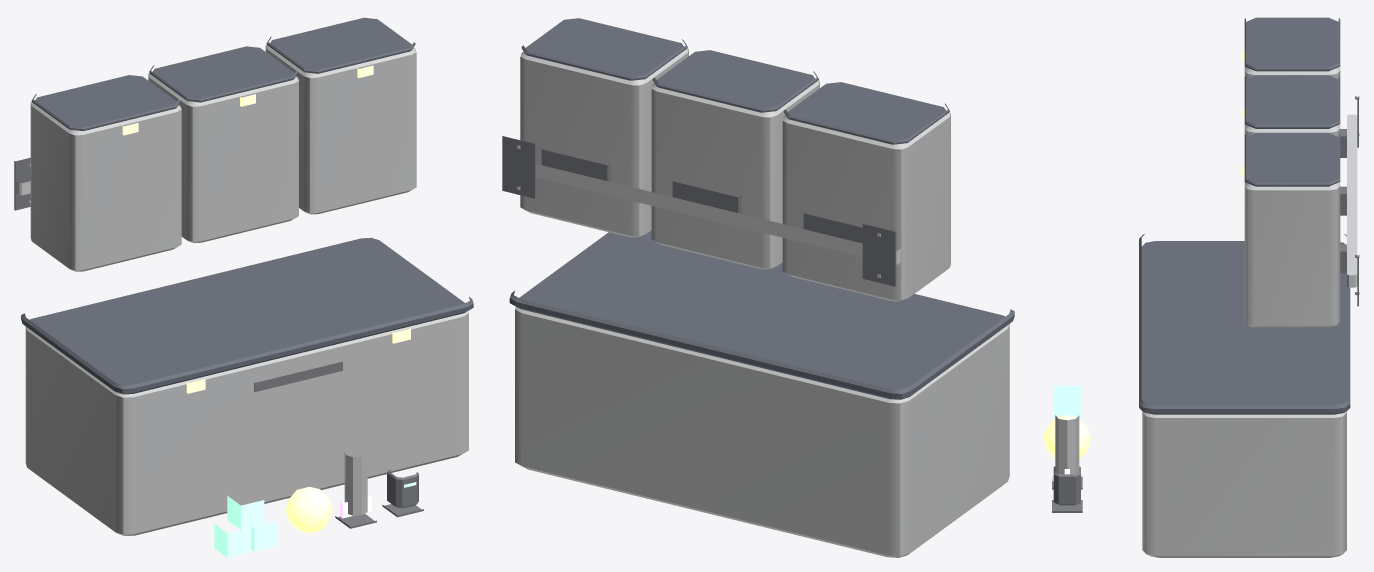
File: toy_chest_rail_bins.glb
The picture shows the model from 3 angles, left to right: view 1: azimuth 30°, elevation 25°; view 2: azimuth 150°, elevation 25°; view 3: azimuth 270°, elevation 25°; orthographic projection. The views are drawn at different scales.
Parts seen in each view (by area): view 1: Bin_Body, Bins, Bin_Lid, Bin_Lids, Toy_Blocks, Toy_Ball, Toy_Rocket, Toy_Sprocket, Grip_Slot, Mag_Pads, Wall_Plates; view 2: Bin_Body, Bins, Bin_Lid, Bin_Lids, Wall_Rail, Wall_Plates, Bin_Hooks; view 3: Bin_Body, Bin_Lid, Bin_Lids, Bins, Wall_Rail, Toy_Rocket, Toy_Sprocket, Toy_Blocks, Toy_Ball, Bin_Hooks.
Part boxes in pixels (bbox=[...]): Bin_Body: bbox=[25, 311, 468, 536]; Bins: bbox=[30, 45, 416, 271]; Bin_Lid: bbox=[21, 237, 473, 394]; Bin_Lids: bbox=[31, 17, 415, 130]; Toy_Blocks: bbox=[214, 496, 277, 557]; Toy_Ball: bbox=[285, 486, 332, 533]; Toy_Rocket: bbox=[344, 452, 367, 515]; Toy_Sprocket: bbox=[387, 469, 418, 508]; Grip_Slot: bbox=[254, 361, 342, 391]; Mag_Pads: bbox=[335, 504, 423, 528]; Wall_Plates: bbox=[14, 157, 30, 210]; Bin_Body: bbox=[515, 307, 1009, 557]; Bins: bbox=[520, 48, 950, 301]; Bin_Lid: bbox=[509, 230, 1014, 399]; Bin_Lids: bbox=[521, 18, 949, 144]; Wall_Rail: bbox=[536, 164, 900, 264]; Wall_Plates: bbox=[502, 136, 896, 286]; Bin_Hooks: bbox=[541, 149, 862, 243]; Bin_Body: bbox=[1142, 411, 1346, 557]; Bin_Lid: bbox=[1139, 234, 1350, 414]; Bin_Lids: bbox=[1244, 17, 1340, 186]; Bins: bbox=[1244, 66, 1340, 327]; Wall_Rail: bbox=[1347, 114, 1357, 287]; Toy_Rocket: bbox=[1055, 415, 1079, 474]; Toy_Sprocket: bbox=[1053, 466, 1080, 505]; Toy_Blocks: bbox=[1053, 385, 1080, 419]; Toy_Ball: bbox=[1043, 415, 1090, 458]; Bin_Hooks: bbox=[1340, 129, 1346, 273].
Bounding box in the file's own units: 1.22 × 1.21 × 0.9269.
